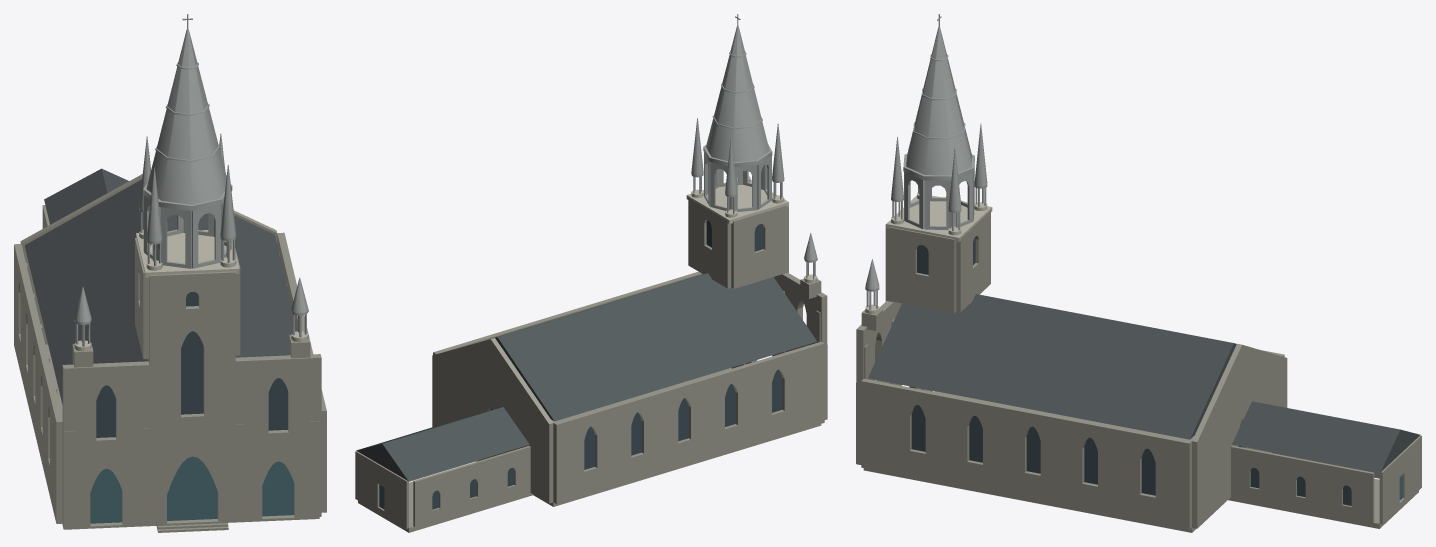
Rendered from eglise-saint-hubert-longueuil-far.glb.
3 renders of one model, left to right at view 1: azimuth 30°, elevation 25°; view 2: azimuth 150°, elevation 25°; view 3: azimuth 270°, elevation 25°, orthographic. The views are drawn at different scales.
Parts seen in each view (by area): view 1: eglise-saint-hubert-longueuil-0-stone, eglise-saint-hubert-longueuil-0-roof, eglise-saint-hubert-longueuil-0-silver, eglise-saint-hubert-longueuil-0-door, eglise-saint-hubert-longueuil-0-glass, eglise-saint-hubert-longueuil-0-trim; view 2: eglise-saint-hubert-longueuil-0-stone, eglise-saint-hubert-longueuil-0-roof, eglise-saint-hubert-longueuil-0-silver, eglise-saint-hubert-longueuil-0-glass, eglise-saint-hubert-longueuil-0-trim; view 3: eglise-saint-hubert-longueuil-0-stone, eglise-saint-hubert-longueuil-0-roof, eglise-saint-hubert-longueuil-0-silver, eglise-saint-hubert-longueuil-0-glass, eglise-saint-hubert-longueuil-0-trim.
Part boxes in pixels (box(x1,y1,x2,y2)): eglise-saint-hubert-longueuil-0-stone: box(14, 174, 326, 532); eglise-saint-hubert-longueuil-0-roof: box(24, 168, 297, 404); eglise-saint-hubert-longueuil-0-silver: box(74, 14, 308, 346); eglise-saint-hubert-longueuil-0-door: box(90, 456, 293, 523); eglise-saint-hubert-longueuil-0-glass: box(96, 292, 287, 437); eglise-saint-hubert-longueuil-0-trim: box(74, 229, 308, 351); eglise-saint-hubert-longueuil-0-stone: box(355, 198, 827, 532); eglise-saint-hubert-longueuil-0-roof: box(356, 273, 816, 481); eglise-saint-hubert-longueuil-0-silver: box(691, 14, 817, 279); eglise-saint-hubert-longueuil-0-glass: box(432, 220, 782, 509); eglise-saint-hubert-longueuil-0-trim: box(686, 176, 817, 283); eglise-saint-hubert-longueuil-0-stone: box(856, 211, 1421, 532); eglise-saint-hubert-longueuil-0-roof: box(868, 294, 1420, 472); eglise-saint-hubert-longueuil-0-silver: box(865, 14, 987, 309); eglise-saint-hubert-longueuil-0-glass: box(911, 237, 1351, 505); eglise-saint-hubert-longueuil-0-trim: box(865, 192, 992, 313).
Bounding box in the file's own units: 37.56 × 48.5 × 59.23.
